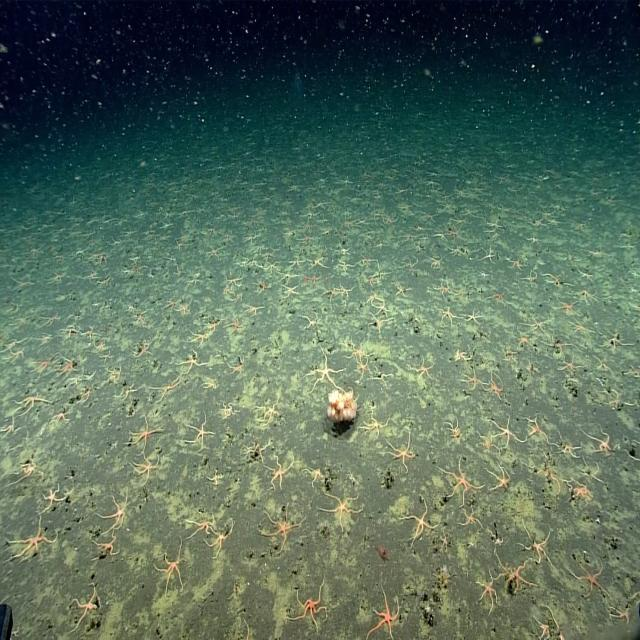brittle-stars: (10, 518, 58, 563), (290, 583, 326, 630), (442, 461, 478, 504), (370, 589, 400, 639), (264, 508, 298, 552), (520, 521, 553, 565), (574, 557, 608, 598), (497, 555, 532, 593), (323, 493, 361, 527), (405, 501, 434, 544), (157, 546, 185, 590), (72, 586, 100, 626), (311, 354, 339, 390), (102, 494, 130, 530), (130, 418, 160, 451), (266, 456, 294, 490), (389, 433, 415, 469), (206, 523, 234, 556), (478, 570, 500, 609), (186, 417, 211, 451), (491, 416, 518, 447), (187, 509, 215, 538), (587, 429, 614, 458), (16, 390, 50, 413), (133, 453, 159, 483), (554, 431, 580, 461), (41, 482, 65, 514), (154, 375, 182, 401), (543, 334, 575, 356), (92, 533, 118, 560), (534, 612, 559, 640), (488, 464, 512, 493), (578, 458, 604, 484), (260, 399, 284, 427), (17, 455, 41, 483), (362, 411, 386, 437), (600, 330, 626, 354), (242, 441, 271, 462), (608, 391, 636, 412), (0, 334, 29, 354), (613, 600, 633, 628), (526, 314, 550, 336), (180, 351, 204, 372), (574, 478, 592, 505), (413, 357, 435, 379), (100, 366, 122, 388), (528, 418, 547, 443), (461, 370, 482, 392), (306, 462, 327, 484), (28, 356, 51, 376), (1, 414, 19, 439), (232, 622, 256, 640), (628, 444, 640, 478), (487, 526, 504, 550), (514, 332, 534, 352), (59, 356, 78, 377), (570, 318, 591, 337), (115, 382, 136, 401), (461, 507, 479, 529), (544, 272, 566, 290), (488, 375, 503, 401), (351, 341, 369, 362), (373, 366, 391, 387), (479, 432, 496, 454), (464, 308, 483, 327), (443, 420, 462, 439), (134, 340, 152, 360), (302, 312, 322, 330), (6, 345, 26, 363), (189, 331, 210, 348), (556, 299, 577, 316), (560, 356, 579, 374), (41, 310, 60, 328), (55, 408, 72, 428), (368, 317, 388, 334), (454, 346, 472, 364), (577, 286, 595, 304), (220, 401, 236, 421), (490, 287, 507, 305), (393, 280, 409, 299), (228, 315, 244, 334), (442, 306, 457, 326), (338, 260, 355, 277), (508, 255, 525, 272), (176, 300, 192, 318), (203, 319, 222, 334), (266, 260, 282, 277), (358, 251, 374, 268), (403, 258, 420, 274), (232, 364, 249, 380), (376, 300, 391, 318), (355, 358, 370, 376), (246, 303, 264, 318), (224, 274, 243, 288), (80, 330, 100, 343), (32, 333, 52, 346), (288, 254, 304, 270), (255, 279, 271, 295), (310, 255, 326, 271), (374, 266, 390, 282), (76, 389, 92, 405), (482, 247, 497, 264), (437, 279, 452, 296), (207, 244, 222, 261), (454, 284, 469, 301), (337, 240, 352, 257), (66, 374, 83, 389), (283, 283, 299, 298), (339, 282, 354, 298), (280, 269, 296, 284), (60, 327, 80, 339), (594, 355, 609, 371), (526, 272, 540, 288), (325, 284, 338, 301), (441, 530, 452, 550), (308, 272, 322, 287), (165, 297, 179, 312), (503, 349, 518, 363), (630, 362, 640, 382), (366, 290, 380, 304), (302, 233, 316, 247), (526, 234, 540, 248), (305, 208, 319, 222), (428, 257, 441, 272), (208, 472, 224, 484), (49, 272, 65, 284), (206, 223, 219, 237), (446, 225, 458, 240), (435, 230, 449, 242), (448, 242, 460, 256), (125, 227, 137, 241), (97, 339, 108, 354), (577, 269, 593, 279), (479, 270, 491, 282), (98, 275, 110, 287), (101, 350, 112, 363), (84, 371, 96, 382), (368, 275, 377, 288), (203, 381, 217, 389), (383, 218, 398, 225)
